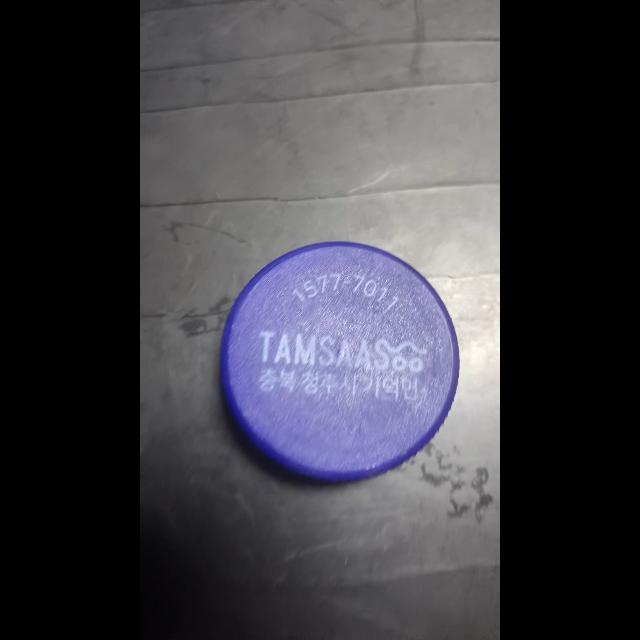plastic_bottle_cap: (212, 227, 470, 488)
